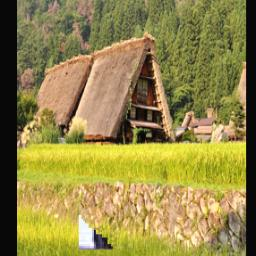Crow: (80, 54, 138, 249)
